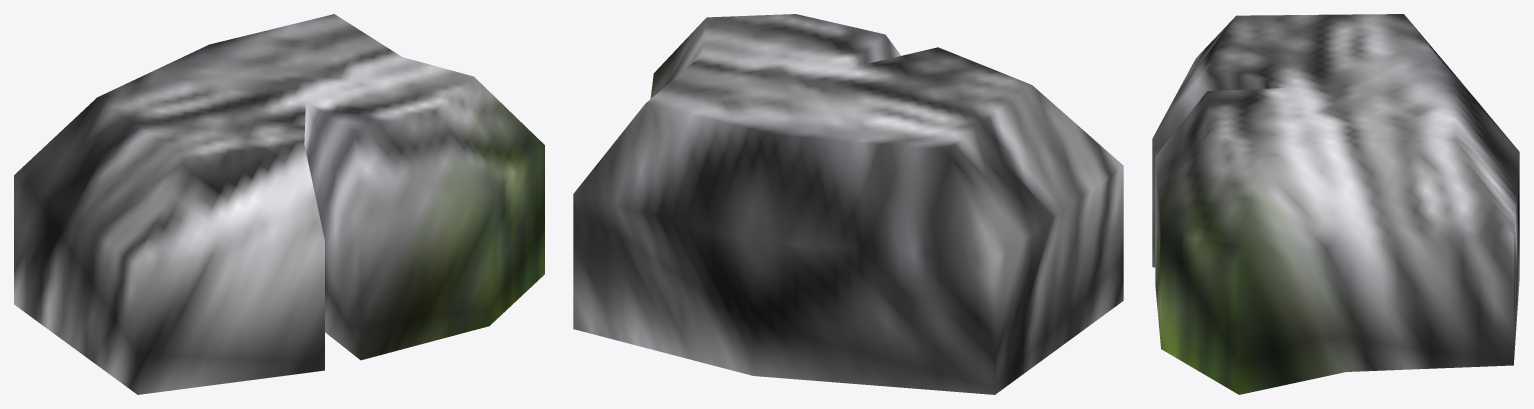
File: Rock5.fbx
3 renders of one model, left to right at view 1: azimuth 30°, elevation 25°; view 2: azimuth 150°, elevation 25°; view 3: azimuth 270°, elevation 25°, orthographic. The views are drawn at different scales.
Visible parts, largest first — view 1: Rock5; view 2: Rock5; view 3: Rock5.
Boxes of the visible parts, x1,y1,x2,y2 form: Rock5: [14, 14, 544, 394]; Rock5: [573, 14, 1123, 394]; Rock5: [1152, 14, 1519, 394].
Bounding box in the file's own units: 151 × 68.99 × 113.
